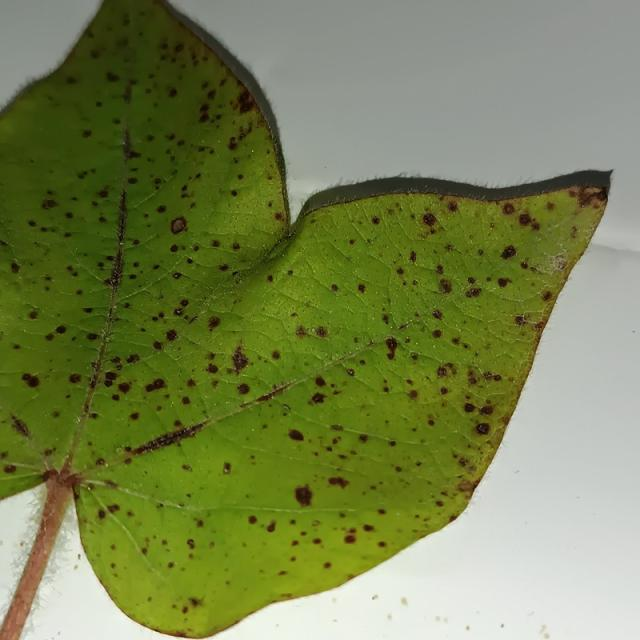Bacterial_Blight: (128, 421, 209, 454), (251, 380, 296, 404), (374, 328, 405, 361), (575, 186, 607, 209), (104, 260, 124, 292), (121, 124, 134, 162), (232, 349, 249, 373), (294, 485, 313, 506), (11, 417, 30, 438), (236, 92, 254, 114), (467, 475, 485, 494), (145, 377, 166, 393), (121, 79, 135, 103), (21, 372, 40, 389), (327, 476, 348, 489), (42, 468, 60, 483), (171, 218, 187, 234), (500, 245, 517, 259), (457, 479, 473, 493), (207, 315, 221, 330), (438, 279, 452, 294), (422, 213, 437, 226), (475, 422, 490, 435), (288, 429, 304, 441), (41, 199, 58, 210), (165, 328, 178, 342), (117, 382, 131, 395), (554, 257, 567, 271), (497, 277, 512, 289), (311, 392, 326, 404), (518, 214, 533, 226), (105, 71, 120, 83), (295, 325, 308, 338), (236, 383, 250, 395), (466, 287, 481, 298), (479, 405, 494, 416), (315, 326, 328, 338), (502, 203, 515, 215), (227, 136, 238, 150), (467, 371, 478, 385), (68, 373, 82, 384), (188, 596, 202, 607), (126, 149, 141, 159), (436, 366, 448, 378), (447, 201, 459, 213), (97, 187, 109, 199), (206, 363, 219, 374), (104, 371, 117, 382), (126, 354, 140, 364), (314, 376, 326, 387), (515, 315, 527, 326), (10, 262, 21, 274), (541, 291, 553, 302), (198, 112, 210, 123), (266, 520, 276, 533), (3, 464, 17, 473), (432, 309, 443, 320), (344, 534, 356, 544), (55, 325, 67, 335), (86, 332, 99, 341), (153, 340, 163, 351), (464, 403, 475, 413), (168, 87, 178, 98), (432, 329, 442, 339), (408, 389, 418, 399), (274, 212, 284, 222), (358, 434, 369, 443), (156, 205, 167, 214), (28, 310, 39, 319), (81, 129, 92, 138), (223, 462, 231, 474), (357, 283, 366, 293), (248, 515, 257, 525), (271, 350, 280, 360), (186, 539, 195, 549), (129, 412, 139, 421), (181, 396, 191, 405), (546, 201, 556, 210), (97, 509, 106, 519), (179, 298, 189, 307), (174, 307, 184, 316), (95, 457, 105, 466), (409, 251, 417, 262), (436, 264, 444, 275), (381, 314, 389, 325), (363, 524, 374, 532), (127, 177, 138, 185), (181, 464, 192, 472), (371, 216, 380, 225), (170, 244, 179, 253), (440, 386, 449, 395), (232, 242, 241, 251), (172, 272, 182, 280), (330, 284, 339, 292), (346, 368, 355, 376), (211, 239, 220, 247), (65, 211, 74, 219), (311, 520, 321, 527), (396, 267, 404, 275), (427, 419, 435, 427), (167, 561, 175, 569), (493, 374, 502, 381), (230, 190, 238, 197), (323, 562, 331, 569), (267, 275, 274, 282), (182, 606, 188, 614), (489, 222, 495, 230)
Cotton: (0, 0, 610, 636)
